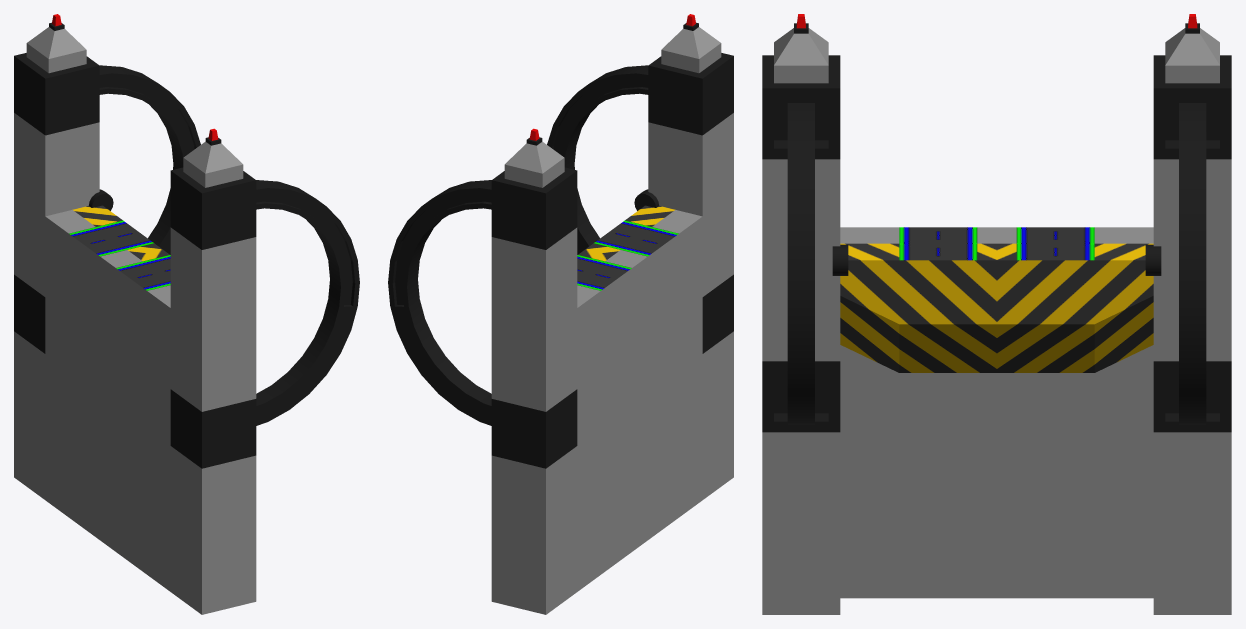
File: SM_CausewayBridgePillar.FBX
3 renders of one model, left to right at view 1: azimuth 30°, elevation 25°; view 2: azimuth 150°, elevation 25°; view 3: azimuth 270°, elevation 25°, orthographic. The views are drawn at different scales.
Parts seen in each view (by area): view 1: Tube001; view 2: Tube001; view 3: Tube001.
Boxes of the visible parts, x1,y1,x2,y2 form: Tube001: (14, 14, 359, 614); Tube001: (388, 14, 733, 614); Tube001: (762, 14, 1231, 614).
Size of the model in its own units: 3100 by 8222 by 6000.
Materials: 5 (2 with a texture image).
